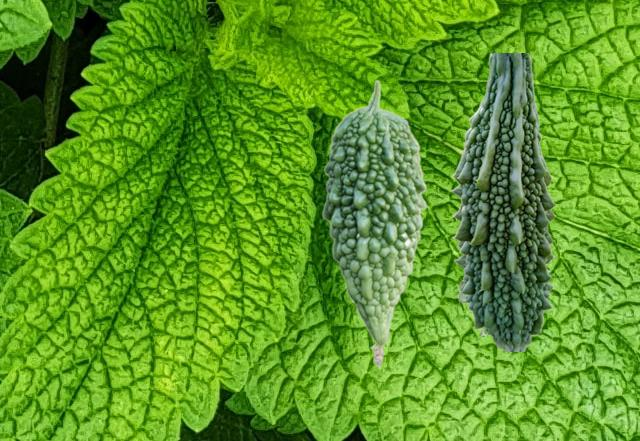ampalaya: (450, 53, 555, 350), (321, 79, 426, 368)
